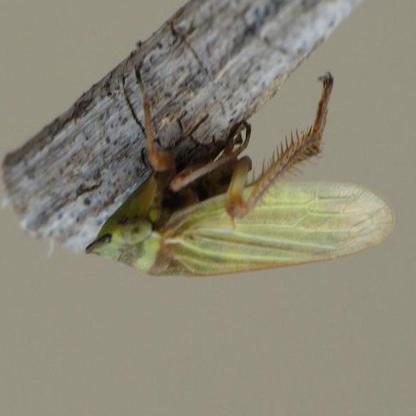green-leafhopper: (90, 68, 393, 279)
